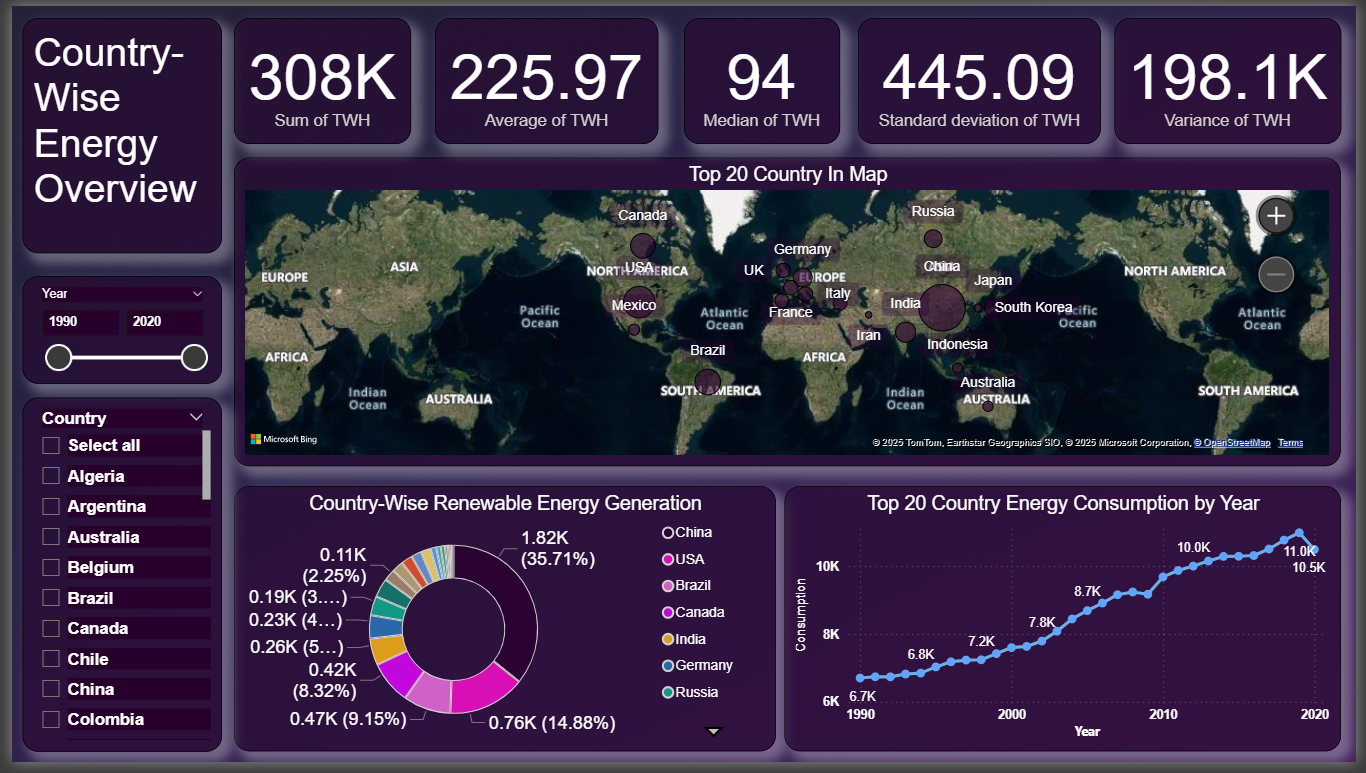

This screenshot's page, from the dashboard's own definition file:
{"tool":"powerbi","page":{"name":"Top 20 Country Energy Generation","canvas":[1280,720],"ordinal":4},"visuals":[{"type":"cardVisual","fields":{"Data":["Sum(top20CountriesPowerGeneration.Biofuel(TWh))","Sum(top20CountriesPowerGeneration.Geothermal (TWh))","Sum(top20CountriesPowerGeneration.Hydro(TWh))","Sum(top20CountriesPowerGeneration.Solar PV (TWh))"]},"box":[315.7,11.4,938.6,141.4],"z":0},{"type":"textbox","box":[10,11.4,295.7,141.4],"z":1000},{"type":"donutChart","title":"Country-Wise Renewable Energy Generation","fields":{"Category":["top20CountriesPowerGeneration.Country"],"Y":["Sum(top20CountriesPowerGeneration.Total (TWh))"]},"box":[200,475.7,527.1,234.3],"z":2000},{"type":"lineChart","title":"Top 20 Country Energy Consumption by Year","fields":{"Category":["Country_Table.Year"],"Y":["Country_Table.Top20_Countries_Total_Consumption"]},"box":[740,475.7,518.6,234.3],"z":3000},{"type":"slicer","fields":{"Values":["Continent_Table.Year"]},"box":[9.5,167,190.6,99.2],"z":4000},{"type":"slicer","fields":{"Values":["Continent_Table.Continent"]},"box":[9.5,280.4,190.6,80.3],"z":5000},{"type":"map","title":"Top 20 Country In Map","fields":{"Category":["top20CountriesPowerGeneration.Country"],"Size":["Sum(top20CountriesPowerGeneration.Total (TWh))","select"]},"box":[211.4,164.3,1042.9,298.6],"z":6000},{"type":"slicer","fields":{"Values":["top20CountriesPowerGeneration.Country"]},"box":[10,372.9,178.6,337.1],"z":7000}]}

Visuals, with their boxes in screenshot pixels (x1, y1, x2, y2), scaled from the page's 1280x720 canvas onto the 1366x773 screenshot:
cardVisual - Sum(top20CountriesPowerGeneration.Biofuel(TWh)) x Sum(top20CountriesPowerGeneration.Geothermal (TWh)): {"left": 337, "top": 12, "right": 1339, "bottom": 164}
textbox: {"left": 11, "top": 12, "right": 326, "bottom": 164}
"Country-Wise Renewable Energy Generation" donutChart: {"left": 213, "top": 511, "right": 776, "bottom": 762}
"Top 20 Country Energy Consumption by Year" lineChart: {"left": 790, "top": 511, "right": 1343, "bottom": 762}
slicer - Continent_Table.Year: {"left": 10, "top": 179, "right": 214, "bottom": 286}
slicer - Continent_Table.Continent: {"left": 10, "top": 301, "right": 214, "bottom": 387}
"Top 20 Country In Map" map: {"left": 226, "top": 176, "right": 1339, "bottom": 497}
slicer - top20CountriesPowerGeneration.Country: {"left": 11, "top": 400, "right": 201, "bottom": 762}
